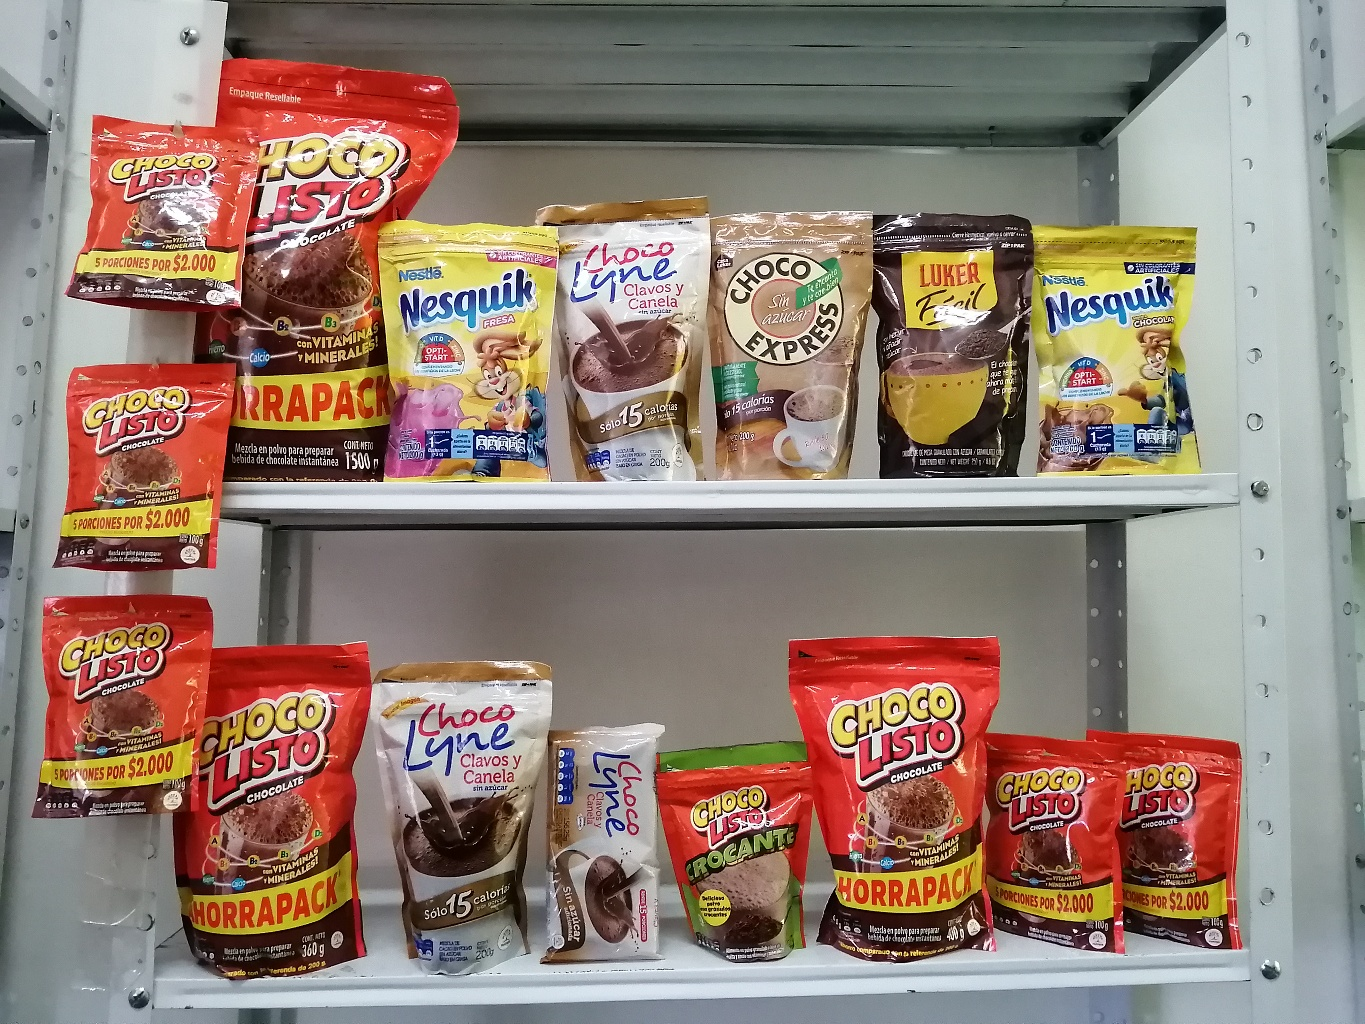COL0170102DYP10000: (654, 746, 810, 949)
COL0170103DYP1,500: (210, 53, 454, 483)
COL0170103DYP10000: (1087, 733, 1249, 947)
COL0170103DYP36000: (176, 640, 385, 971)
COL0170103DYP40000: (787, 621, 1003, 959)
COL0170303DYP20000: (1026, 219, 1217, 469)
COL0170305DYP20000: (378, 217, 553, 485)
